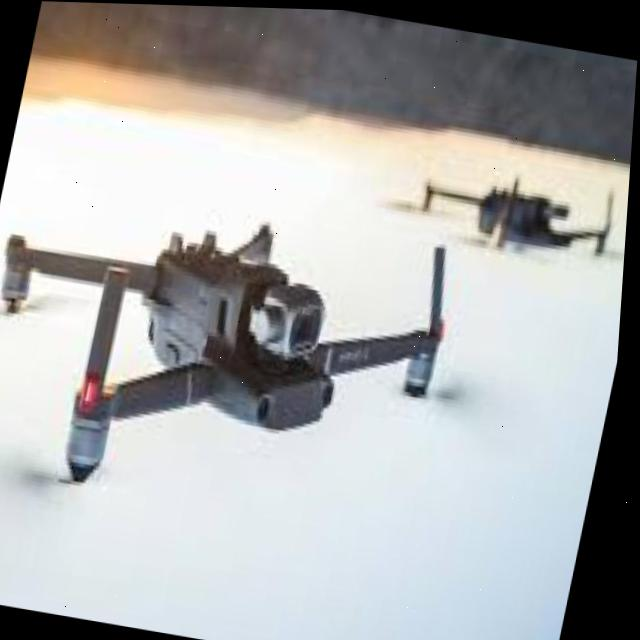drones: (0, 136, 519, 581), (401, 146, 633, 273)
